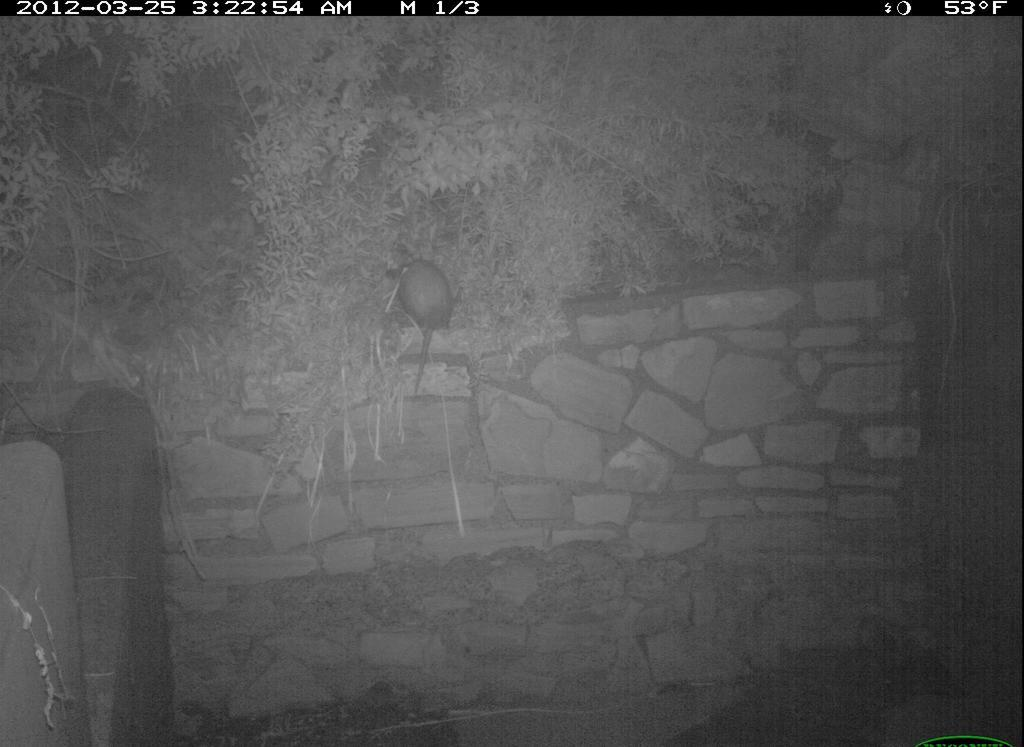opossum: (376, 240, 472, 409)
